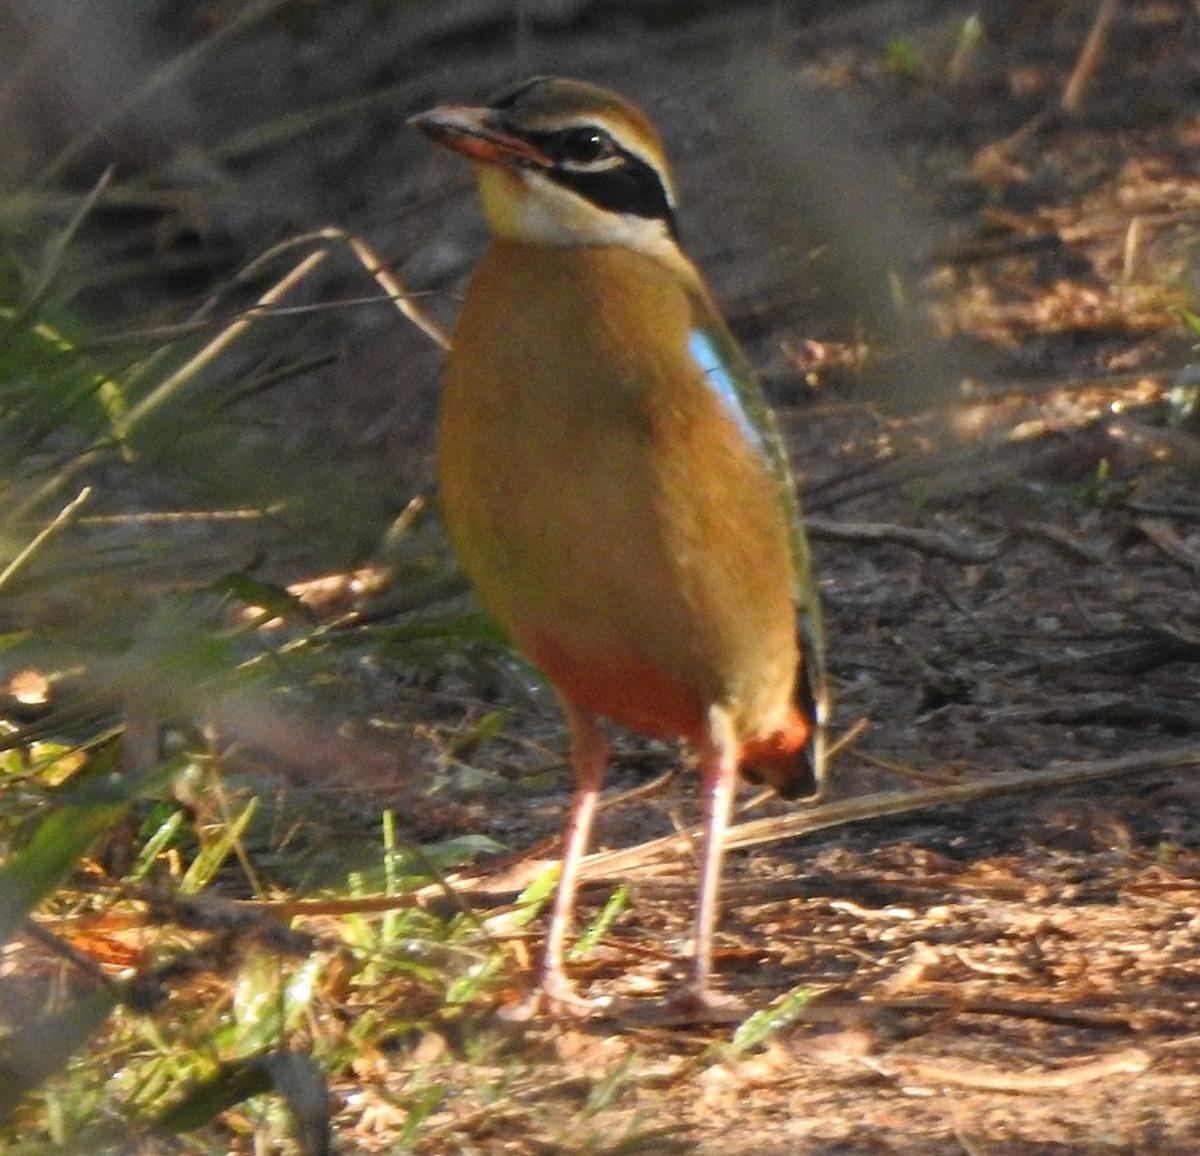pitta: (342, 43, 890, 1077)
